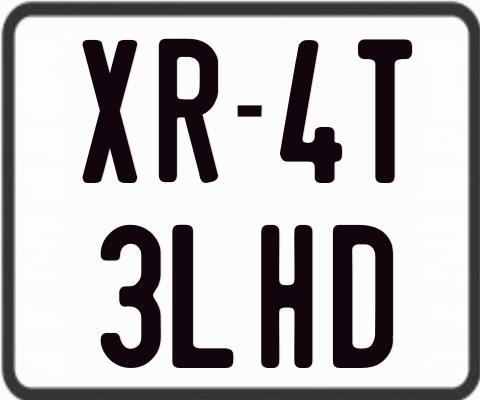3: (100, 224, 165, 372)
4: (278, 38, 342, 184)
D: (332, 225, 395, 372)
H: (261, 225, 318, 371)
L: (170, 224, 236, 371)
R: (159, 38, 219, 184)
T: (355, 37, 413, 181)
X: (82, 39, 141, 188)
